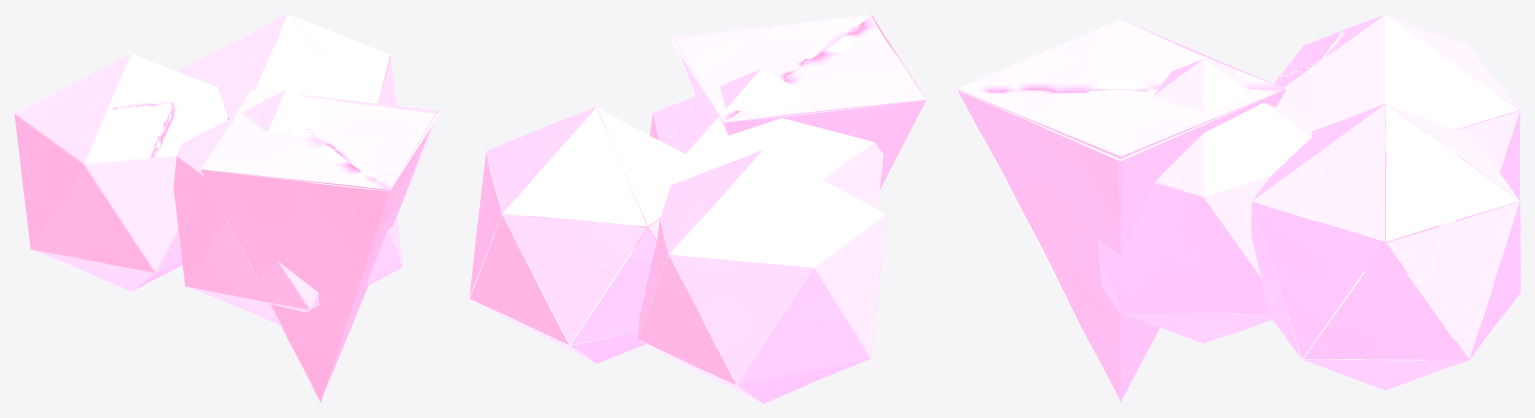
File: heart.glb
The picture shows the model from 3 angles, left to right: view 1: azimuth 30°, elevation 25°; view 2: azimuth 150°, elevation 25°; view 3: azimuth 270°, elevation 25°; orthographic projection. The views are drawn at different scales.
Parts seen in each view (by area): view 1: PangHeartLobe0; view 2: PangHeartLobe0; view 3: PangHeartLobe0.
Part boxes in pixels (<box>): PangHeartLobe0: <box>14,14,440,403</box>; PangHeartLobe0: <box>469,14,926,403</box>; PangHeartLobe0: <box>955,14,1520,403</box>.
Bounding box in the file's own units: 0.6005 × 0.4605 × 0.6834.
